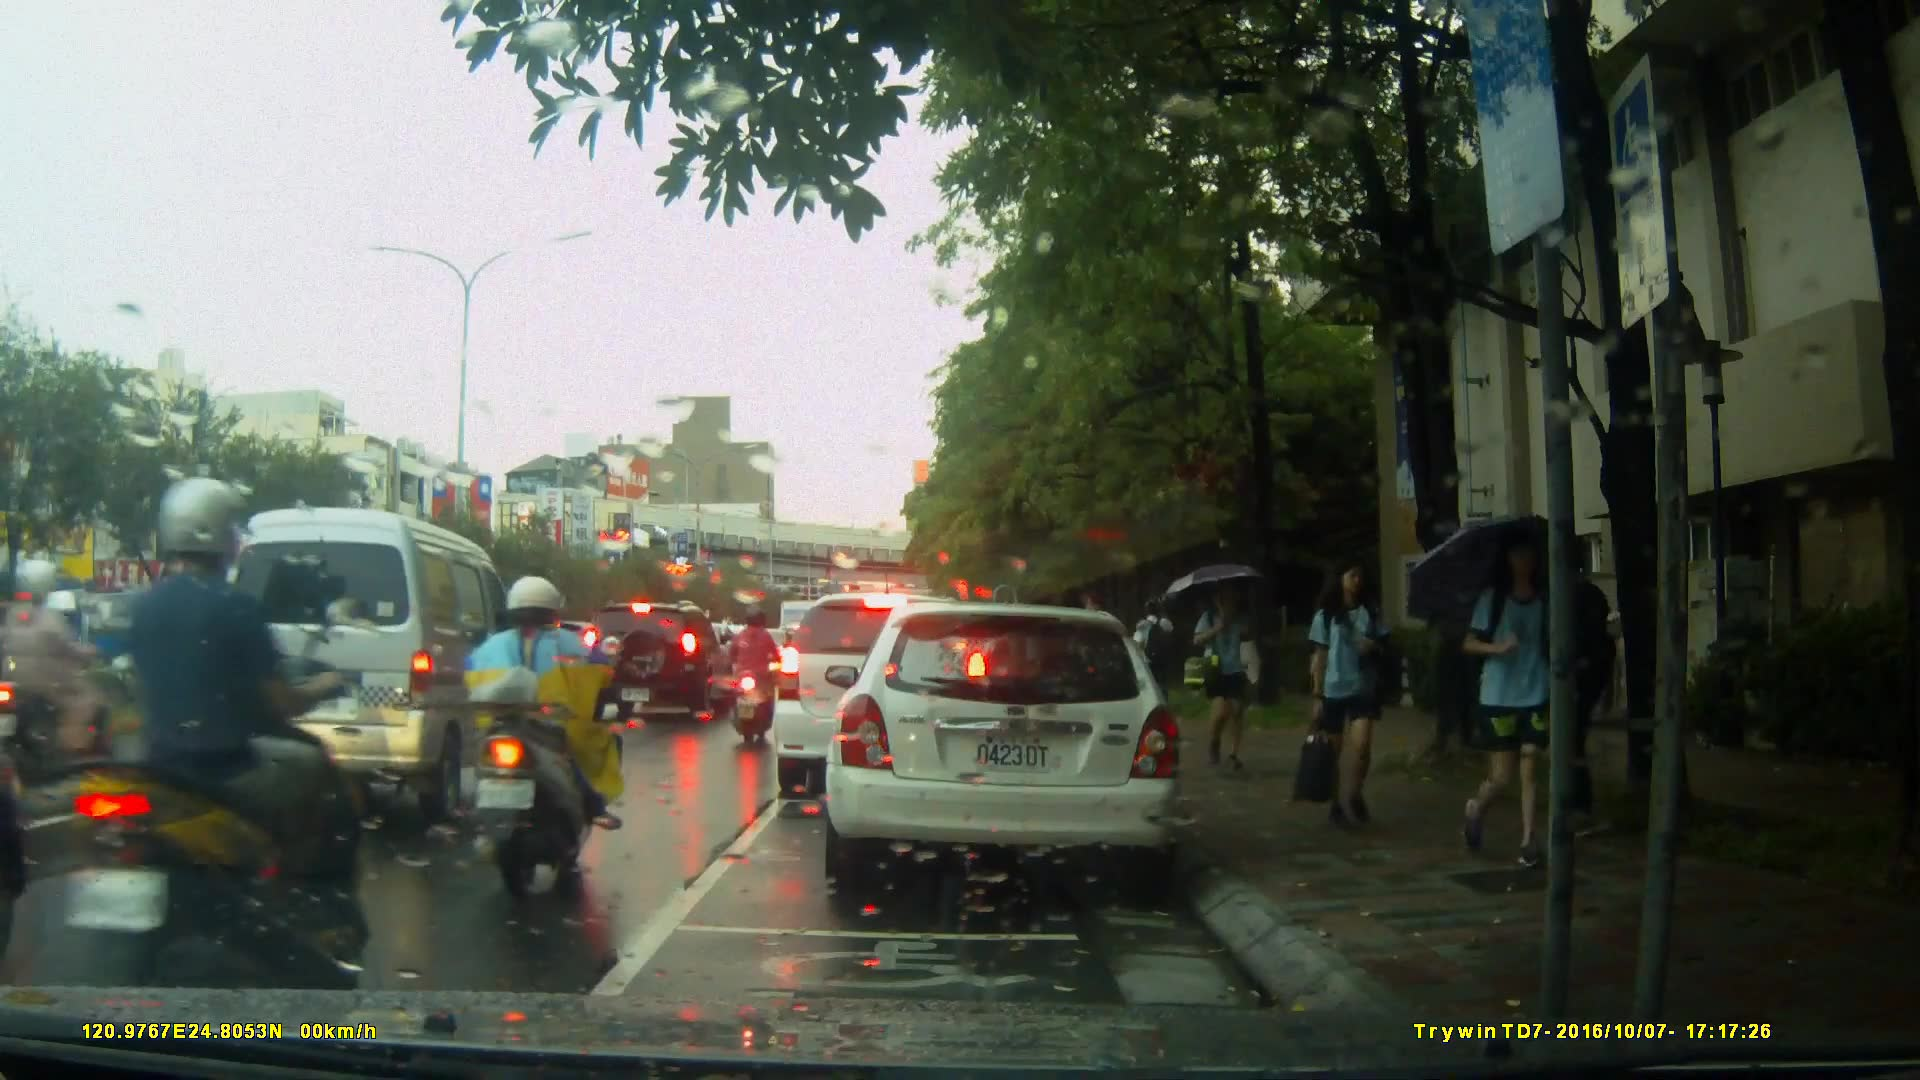pedestrian: (1432, 528, 1575, 877), (1526, 531, 1634, 854), (1296, 555, 1394, 843), (1182, 577, 1255, 782)
rider: (59, 475, 359, 1039), (455, 574, 624, 903), (8, 553, 139, 835), (725, 603, 783, 743)
vehicle: (815, 593, 1204, 909), (193, 505, 521, 836), (770, 590, 994, 802), (577, 603, 737, 726)
